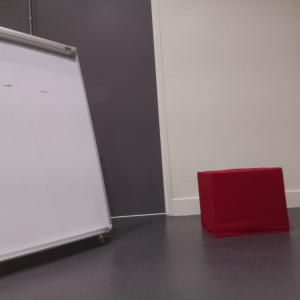big: (1, 32, 111, 262)
medium: (198, 167, 291, 235)
